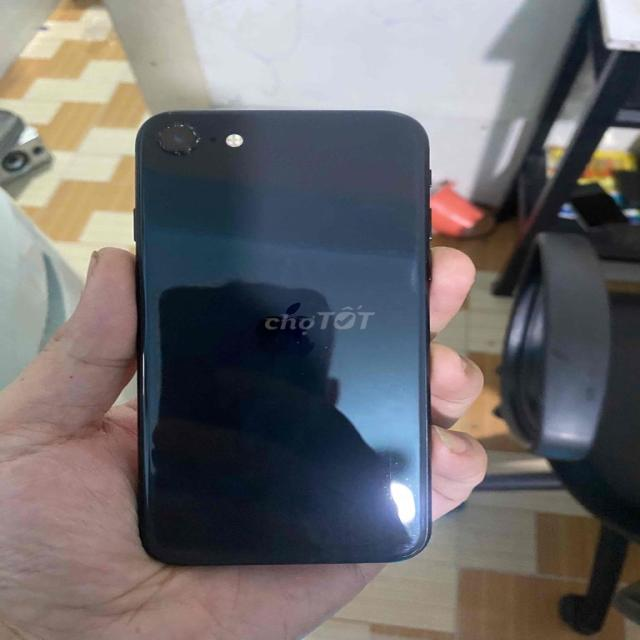scratch: (150, 120, 206, 154), (407, 218, 429, 304)
